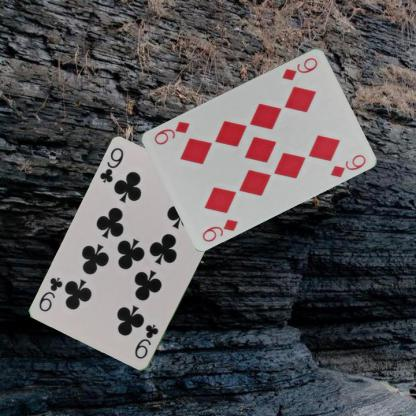9c: (97, 145, 125, 185), (132, 322, 160, 361)
9d: (199, 216, 240, 243), (280, 54, 319, 82)
